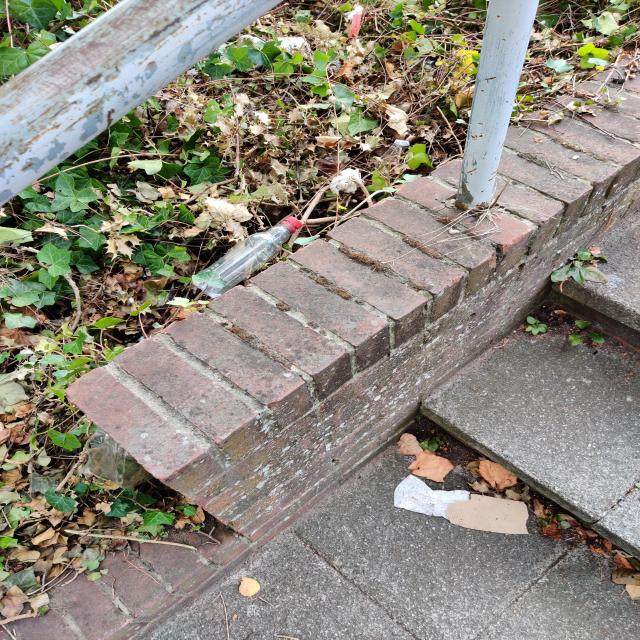litter: (182, 218, 308, 293), (382, 472, 534, 534)
